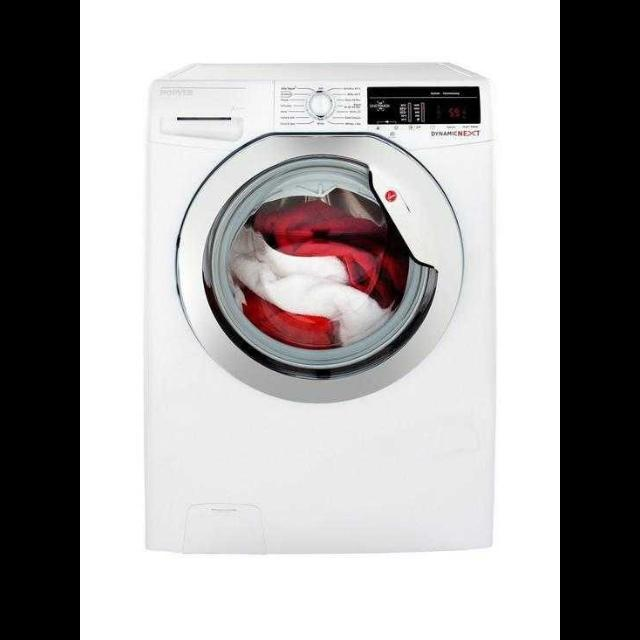Washing-Machine: (149, 60, 491, 552)
